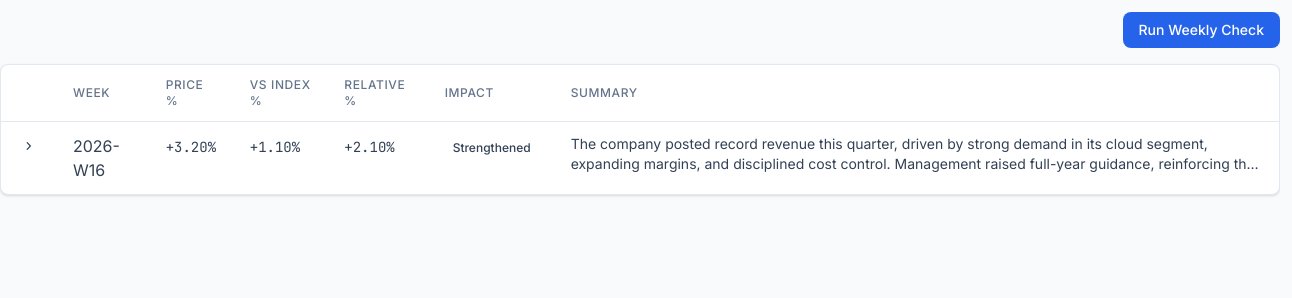
Test: WeeklyLogTable › expands a row to reveal the full summary on toggle
The image size is (1292, 298).
Expected: the text "Full summary" is not shown
Click the button named "show full summary": click(29, 146) top-left (17, 134), bottom-right (41, 158)
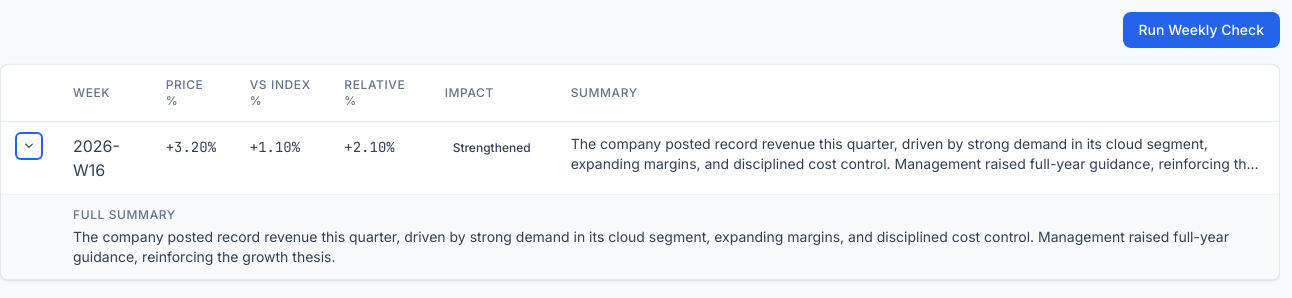
Result: the text "Full summary" is shown at top-left (73, 207), bottom-right (176, 222)
Result: the button named "hide full summary" is expanded
# Collapsing hides the detail row again
Click the button named "hide full summary": click(29, 146) top-left (17, 134), bottom-right (41, 158)
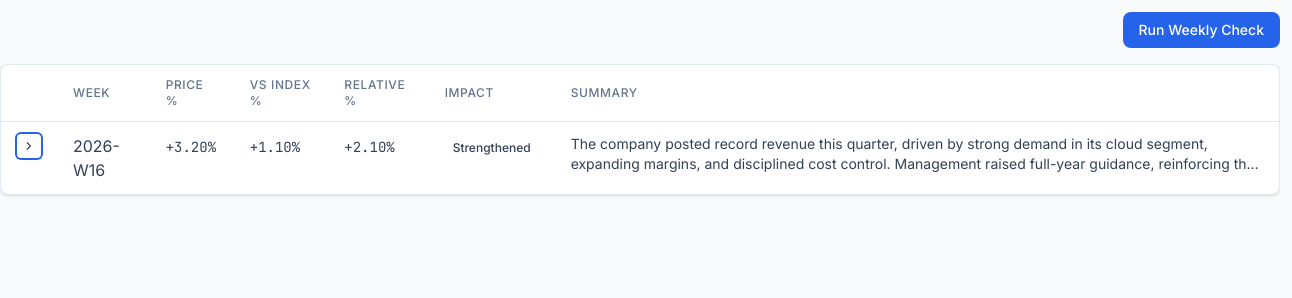
Result: the text "Full summary" is gone
